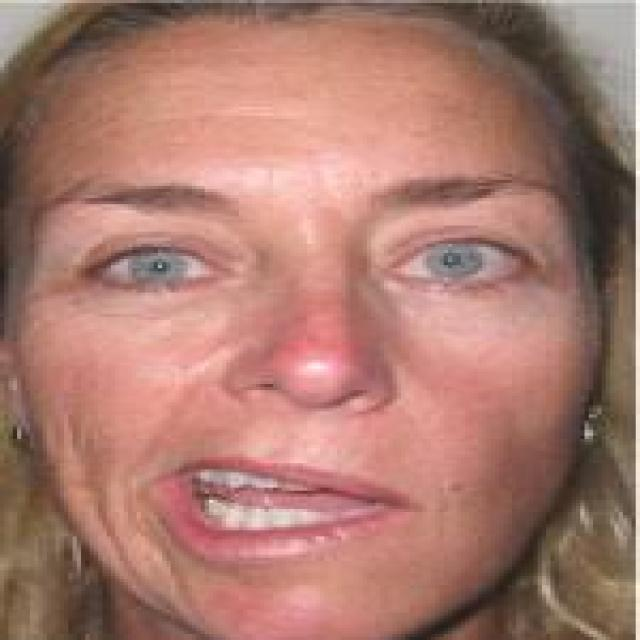stroke_face: (17, 12, 640, 637)
